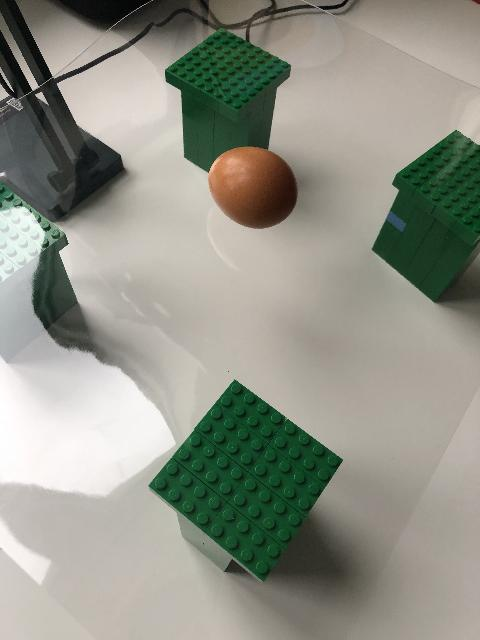Sano: (207, 145, 298, 229)
